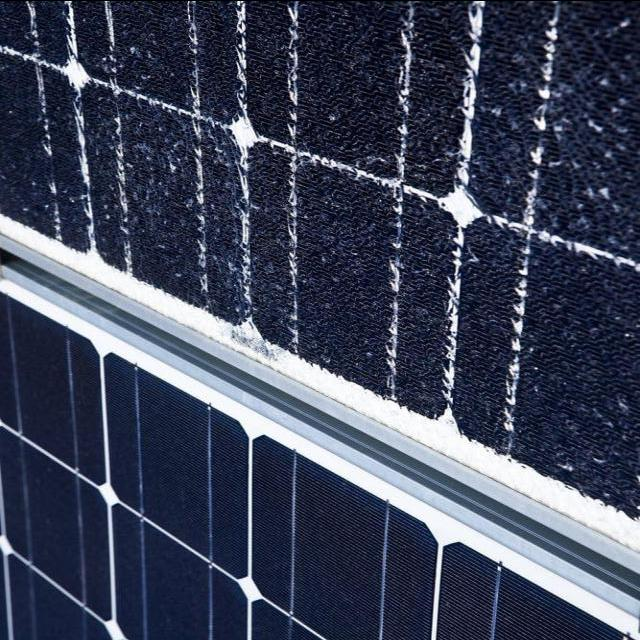cracked: (2, 1, 640, 532)
